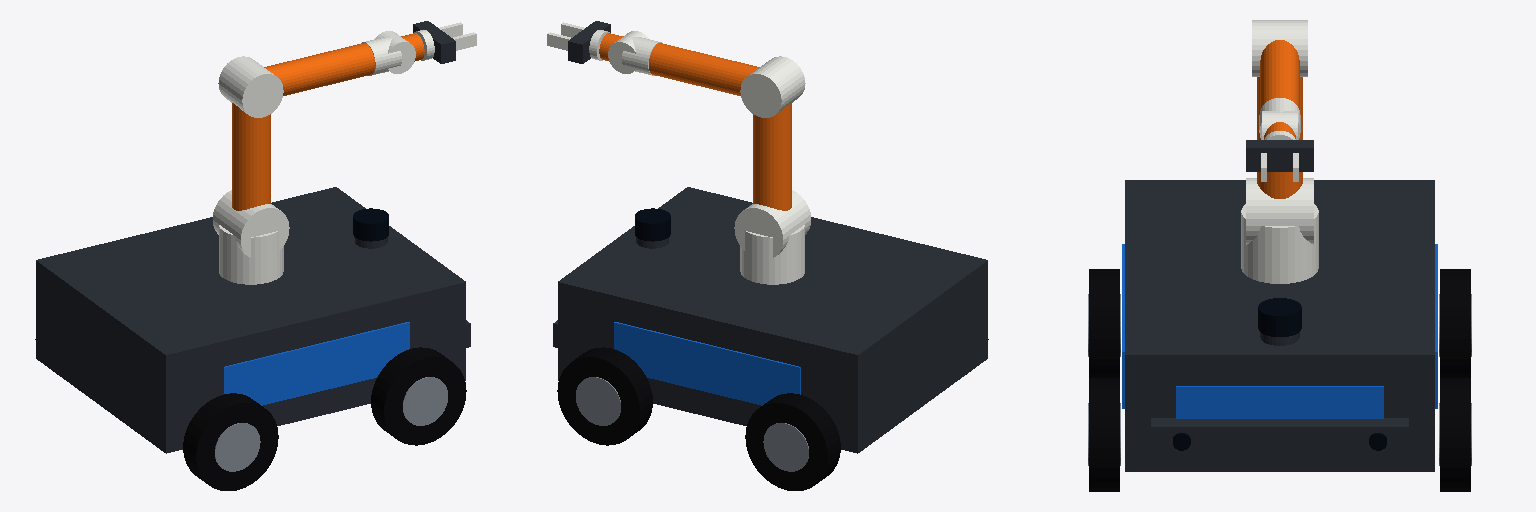
robot.urdf — Mobile_manipulator:
<?xml version="1.0"?>
<robot name="Mobile_manipulator">
  <robotlens_sim base="floating">
    <actuator joint="left_front_wheel_joint" type="velocity" gain="15" effort="30"/>
    <actuator joint="right_front_wheel_joint" type="velocity" gain="15" effort="30"/>
    <actuator joint="left_rear_wheel_joint" type="velocity" gain="15" effort="30"/>
    <actuator joint="right_rear_wheel_joint" type="velocity" gain="15" effort="30"/>
    <actuator joint="arm_base_joint" type="position" gain="450" effort="90" lower="-3.05" upper="3.05"/>
    <actuator joint="upper_arm_joint" type="position" gain="600" effort="120" lower="-1.9" upper="1.9"/>
    <actuator joint="forearm_joint" type="position" gain="350" effort="70" lower="-2.5" upper="2.5"/>
    <actuator joint="wrist_roll_joint" type="position" gain="125" effort="25" lower="-3.1" upper="3.1"/>
    <actuator joint="wrist_pitch_joint" type="position" gain="100" effort="20" lower="-2" upper="2"/>
    <actuator joint="tool_flange_joint" type="position" gain="60" effort="12" lower="-3.1" upper="3.1"/>
    <actuator joint="left_finger_joint" type="position" gain="125" effort="25" lower="0" upper="0.035"/>
    <actuator joint="right_finger_joint" type="position" gain="125" effort="25" lower="0" upper="0.035"/>
  </robotlens_sim>
  <link name="base_footprint"><inertial><origin xyz="0 0 0" rpy="0 0 0"/><mass value="0.001"/><inertia ixx="1e-06" ixy="0" ixz="0" iyy="1e-06" iyz="0" izz="1e-06"/></inertial></link>
  <joint name="base_footprint_joint" type="fixed"><parent link="base_footprint"/><child link="base_link"/><origin xyz="0 0 0.225" rpy="0 0 0"/></joint>
  <link name="base_link">
    <inertial><origin xyz="0 0 0" rpy="0 0 0"/><mass value="79.08732"/><inertia ixx="2.8214223445199997" ixy="0" ixz="0" iyy="4.633590108680001" iyz="0" izz="6.6399028852000015"/></inertial>
    <visual><origin xyz="0 0 0" rpy="0 0 0"/><geometry><box size="0.8 0.6 0.25"/></geometry><material name="material_1"><color rgba="0.2 0.22 0.25 1"/></material></visual>
    <visual><origin xyz="0 0.3 0" rpy="0 0 0"/><geometry><box size="0.496 0.01 0.12"/></geometry><material name="material_2"><color rgba="0.12 0.45 0.85 1"/></material></visual>
    <visual><origin xyz="0 -0.3 0" rpy="0 0 0"/><geometry><box size="0.496 0.01 0.12"/></geometry><material name="material_3"><color rgba="0.12 0.45 0.85 1"/></material></visual>
    <visual><origin xyz="0.4 0 0" rpy="0 0 0"/><geometry><box size="0.01 0.402 0.12"/></geometry><material name="material_4"><color rgba="0.12 0.45 0.85 1"/></material></visual>
    <collision><origin xyz="0 0 0" rpy="0 0 0"/><geometry><box size="0.7200000000000001 0.54 0.225"/></geometry></collision>
    <collision><origin xyz="0 0.3 0" rpy="0 0 0"/><geometry><box size="0.4464 0.009000000000000001 0.108"/></geometry></collision>
    <collision><origin xyz="0 -0.3 0" rpy="0 0 0"/><geometry><box size="0.4464 0.009000000000000001 0.108"/></geometry></collision>
    <collision><origin xyz="0.4 0 0" rpy="0 0 0"/><geometry><box size="0.009000000000000001 0.3618 0.108"/></geometry></collision>
  </link>
  <link name="left_front_wheel">
    <inertial><origin xyz="0 0 0" rpy="0 0 0"/><mass value="1.9668560644029456"/><inertia ixx="0.0055420506463979185" ixy="0" ixz="0" iyy="0.009855631299195266" iyz="0" izz="0.0055420506463979185"/></inertial>
    <visual><origin xyz="0 0 0" rpy="-1.5707963267948963 0 0"/><geometry><cylinder radius="0.11" length="0.06"/></geometry><material name="material_5"><color rgba="0.07 0.07 0.08 1"/></material></visual>
    <visual><origin xyz="0 0 0" rpy="-1.5707963267948963 0 0"/><geometry><cylinder radius="0.060500000000000005" length="0.0648"/></geometry><material name="material_6"><color rgba="0.55 0.58 0.62 1"/></material></visual>
    <collision><origin xyz="0 0 0" rpy="-1.5707963267948963 0 0"/><geometry><cylinder radius="0.11" length="0.06"/></geometry></collision>
    <collision><origin xyz="0 0 0" rpy="-1.5707963267948963 0 0"/><geometry><cylinder radius="0.054450000000000005" length="0.05508"/></geometry></collision>
  </link>
  <link name="right_front_wheel">
    <inertial><origin xyz="0 0 0" rpy="0 0 0"/><mass value="1.9668560644029456"/><inertia ixx="0.0055420506463979185" ixy="0" ixz="0" iyy="0.009855631299195266" iyz="0" izz="0.0055420506463979185"/></inertial>
    <visual><origin xyz="0 0 0" rpy="-1.5707963267948963 0 0"/><geometry><cylinder radius="0.11" length="0.06"/></geometry><material name="material_7"><color rgba="0.07 0.07 0.08 1"/></material></visual>
    <visual><origin xyz="0 0 0" rpy="-1.5707963267948963 0 0"/><geometry><cylinder radius="0.060500000000000005" length="0.0648"/></geometry><material name="material_8"><color rgba="0.55 0.58 0.62 1"/></material></visual>
    <collision><origin xyz="0 0 0" rpy="-1.5707963267948963 0 0"/><geometry><cylinder radius="0.11" length="0.06"/></geometry></collision>
    <collision><origin xyz="0 0 0" rpy="-1.5707963267948963 0 0"/><geometry><cylinder radius="0.054450000000000005" length="0.05508"/></geometry></collision>
  </link>
  <link name="left_rear_wheel">
    <inertial><origin xyz="0 0 0" rpy="0 0 0"/><mass value="1.9668560644029456"/><inertia ixx="0.0055420506463979185" ixy="0" ixz="0" iyy="0.009855631299195266" iyz="0" izz="0.0055420506463979185"/></inertial>
    <visual><origin xyz="0 0 0" rpy="-1.5707963267948963 0 0"/><geometry><cylinder radius="0.11" length="0.06"/></geometry><material name="material_9"><color rgba="0.07 0.07 0.08 1"/></material></visual>
    <visual><origin xyz="0 0 0" rpy="-1.5707963267948963 0 0"/><geometry><cylinder radius="0.060500000000000005" length="0.0648"/></geometry><material name="material_10"><color rgba="0.55 0.58 0.62 1"/></material></visual>
    <collision><origin xyz="0 0 0" rpy="-1.5707963267948963 0 0"/><geometry><cylinder radius="0.11" length="0.06"/></geometry></collision>
    <collision><origin xyz="0 0 0" rpy="-1.5707963267948963 0 0"/><geometry><cylinder radius="0.054450000000000005" length="0.05508"/></geometry></collision>
  </link>
  <link name="right_rear_wheel">
    <inertial><origin xyz="0 0 0" rpy="0 0 0"/><mass value="1.9668560644029456"/><inertia ixx="0.0055420506463979185" ixy="0" ixz="0" iyy="0.009855631299195266" iyz="0" izz="0.0055420506463979185"/></inertial>
    <visual><origin xyz="0 0 0" rpy="-1.5707963267948963 0 0"/><geometry><cylinder radius="0.11" length="0.06"/></geometry><material name="material_11"><color rgba="0.07 0.07 0.08 1"/></material></visual>
    <visual><origin xyz="0 0 0" rpy="-1.5707963267948963 0 0"/><geometry><cylinder radius="0.060500000000000005" length="0.0648"/></geometry><material name="material_12"><color rgba="0.55 0.58 0.62 1"/></material></visual>
    <collision><origin xyz="0 0 0" rpy="-1.5707963267948963 0 0"/><geometry><cylinder radius="0.11" length="0.06"/></geometry></collision>
    <collision><origin xyz="0 0 0" rpy="-1.5707963267948963 0 0"/><geometry><cylinder radius="0.054450000000000005" length="0.05508"/></geometry></collision>
  </link>
  <link name="lidar_link">
    <inertial><origin xyz="0 0 0" rpy="0 0 0"/><mass value="0.22107073344046016"/><inertia ixx="0.00042077856562707633" ixy="0" ixz="0" iyy="0.00042077856562707633" iyz="0" izz="0.00018554855052757584"/></inertial>
    <visual><origin xyz="0 0 0.01" rpy="0 0 0"/><geometry><cylinder radius="0.038" length="0.02"/></geometry><material name="material_13"><color rgba="0.2 0.22 0.25 1"/></material></visual>
    <visual><origin xyz="0 0 0.0425" rpy="0 0 0"/><geometry><cylinder radius="0.042" length="0.045"/></geometry><material name="material_14"><color rgba="0.05 0.08 0.12 1"/></material></visual>
    <collision><origin xyz="0 0 0.01" rpy="0 0 0"/><geometry><cylinder radius="0.0342" length="0.017"/></geometry></collision>
    <collision><origin xyz="0 0 0.0425" rpy="0 0 0"/><geometry><cylinder radius="0.0378" length="0.03825"/></geometry></collision>
  </link>
  <link name="imu_link">
    <inertial><origin xyz="0 0 0" rpy="0 0 0"/><mass value="0.02"/><inertia ixx="1e-06" ixy="0" ixz="0" iyy="1e-06" iyz="0" izz="1.0530000000000001e-06"/></inertial>
    <visual><origin xyz="0 0 0" rpy="0 0 0"/><geometry><box size="0.03 0.03 0.012"/></geometry><material name="material_15"><color rgba="0.1 0.4 0.2 1"/></material></visual>
    <collision><origin xyz="0 0 0" rpy="0 0 0"/><geometry><box size="0.027 0.027 0.0108"/></geometry></collision>
  </link>
  <link name="arm_base">
    <inertial><origin xyz="0 0 0" rpy="0 0 0"/><mass value="1.3783737767625217"/><inertia ixx="0.008554532252032399" ixy="0" ixz="0" iyy="0.008554532252032399" iyz="0" izz="0.003876676247144592"/></inertial>
    <visual><origin xyz="0 0 0.06" rpy="0 0 0"/><geometry><cylinder radius="0.075" length="0.12"/></geometry><material name="material_16"><color rgba="0.92 0.92 0.9 1"/></material></visual>
    <collision><origin xyz="0 0 0.06" rpy="0 0 0"/><geometry><cylinder radius="0.0675" length="0.102"/></geometry></collision>
  </link>
  <link name="upper_arm">
    <inertial><origin xyz="0 0 0" rpy="0 0 0"/><mass value="2.5574980816693182"/><inertia ixx="0.0612055655404595" ixy="0" ixz="0" iyy="0.060810673152577176" iyz="0" izz="0.004218105827536204"/></inertial>
    <visual><origin xyz="0 0 0" rpy="-1.5707963267948963 0 0"/><geometry><cylinder radius="0.065" length="0.13"/></geometry><material name="material_17"><color rgba="0.92 0.92 0.9 1"/></material></visual>
    <visual><origin xyz="0 0 0.173623712551348" rpy="0 0 0"/><geometry><cylinder radius="0.045" length="0.347247425102696"/></geometry><material name="material_18"><color rgba="0.95 0.45 0.1 1"/></material></visual>
    <collision><origin xyz="0 0 0" rpy="-1.5707963267948963 0 0"/><geometry><cylinder radius="0.0585" length="0.1105"/></geometry></collision>
    <collision><origin xyz="0 0 0.173623712551348" rpy="0 0 0"/><geometry><cylinder radius="0.0405" length="0.2951603113372916"/></geometry></collision>
  </link>
  <link name="forearm">
    <inertial><origin xyz="0 0 0" rpy="0 0 0"/><mass value="1.5896455216466028"/><inertia ixx="0.0018561461185224283" ixy="0" ixz="0" iyy="0.030261007305839454" iyz="0" izz="0.030432294709482496"/></inertial>
    <visual><origin xyz="0 0 0" rpy="-1.5707963267948963 0 0"/><geometry><cylinder radius="0.055" length="0.11"/></geometry><material name="material_19"><color rgba="0.92 0.92 0.9 1"/></material></visual>
    <visual><origin xyz="0.15433218893453157 0 0" rpy="0 1.5707963267948966 0"/><geometry><cylinder radius="0.038" length="0.30866437786906314"/></geometry><material name="material_20"><color rgba="0.95 0.45 0.1 1"/></material></visual>
    <collision><origin xyz="0 0 0" rpy="-1.5707963267948963 0 0"/><geometry><cylinder radius="0.0495" length="0.0935"/></geometry></collision>
    <collision><origin xyz="0.15433218893453157 0 0" rpy="0 1.5707963267948966 0"/><geometry><cylinder radius="0.0342" length="0.2623647211887037"/></geometry></collision>
  </link>
  <link name="wrist_roll">
    <inertial><origin xyz="0 0 0" rpy="0 0 0"/><mass value="0.22870794518133697"/><inertia ixx="0.00018296635614506958" ixy="0" ixz="0" iyy="0.0004650394885353852" iyz="0" izz="0.0004650394885353852"/></inertial>
    <visual><origin xyz="0.035 0 0" rpy="0 1.5707963267948966 0"/><geometry><cylinder radius="0.04" length="0.07"/></geometry><material name="material_21"><color rgba="0.92 0.92 0.9 1"/></material></visual>
    <collision><origin xyz="0.035 0 0" rpy="0 1.5707963267948966 0"/><geometry><cylinder radius="0.036000000000000004" length="0.059500000000000004"/></geometry></collision>
  </link>
  <link name="wrist_pitch">
    <inertial><origin xyz="0 0 0" rpy="0 0 0"/><mass value="0.3332601486928053"/><inertia ixx="0.0002384029838861192" ixy="0" ixz="0" iyy="0.0003987969549272441" iyz="0" izz="0.0004007028544704219"/></inertial>
    <visual><origin xyz="0 0 0" rpy="-1.5707963267948963 0 0"/><geometry><cylinder radius="0.04" length="0.07"/></geometry><material name="material_22"><color rgba="0.92 0.92 0.9 1"/></material></visual>
    <visual><origin xyz="0.04 0 0" rpy="0 1.5707963267948966 0"/><geometry><cylinder radius="0.032" length="0.05"/></geometry><material name="material_23"><color rgba="0.95 0.45 0.1 1"/></material></visual>
    <collision><origin xyz="0 0 0" rpy="-1.5707963267948963 0 0"/><geometry><cylinder radius="0.036000000000000004" length="0.059500000000000004"/></geometry></collision>
    <collision><origin xyz="0.04 0 0" rpy="0 1.5707963267948966 0"/><geometry><cylinder radius="0.028800000000000003" length="0.0425"/></geometry></collision>
  </link>
  <link name="tool_flange">
    <inertial><origin xyz="0 0 0" rpy="0 0 0"/><mass value="0.05002986300841746"/><inertia ixx="3.06432910926557e-05" ixy="0" ixz="0" iyy="2.1992293947450177e-05" iyz="0" izz="2.1992293947450177e-05"/></inertial>
    <visual><origin xyz="0.01 0 0" rpy="0 1.5707963267948966 0"/><geometry><cylinder radius="0.035" length="0.02"/></geometry><material name="material_24"><color rgba="0.92 0.92 0.9 1"/></material></visual>
    <collision><origin xyz="0.01 0 0" rpy="0 1.5707963267948966 0"/><geometry><cylinder radius="0.03150000000000001" length="0.017"/></geometry></collision>
  </link>
  <link name="gripper_palm">
    <inertial><origin xyz="0 0 0" rpy="0 0 0"/><mass value="0.169"/><inertia ixx="0.0002732166666666667" ixy="0" ixz="0" iyy="0.00012534166666666667" iyz="0" izz="0.00032814166666666675"/></inertial>
    <visual><origin xyz="0.02 0 0" rpy="0 0 0"/><geometry><box size="0.04 0.13 0.05"/></geometry><material name="material_25"><color rgba="0.2 0.22 0.25 1"/></material></visual>
    <collision><origin xyz="0.02 0 0" rpy="0 0 0"/><geometry><box size="0.036000000000000004 0.117 0.045000000000000005"/></geometry></collision>
  </link>
  <link name="left_finger">
    <inertial><origin xyz="0 0 0" rpy="0 0 0"/><mass value="0.02"/><inertia ixx="2.0147400000000002e-06" ixy="0" ixz="0" iyy="2.7982500000000005e-05" iyz="0" izz="2.754024000000001e-05"/></inertial>
    <visual><origin xyz="0.035 0.006 0" rpy="0 0 0"/><geometry><box size="0.07 0.012 0.03"/></geometry><material name="material_26"><color rgba="0.92 0.92 0.9 1"/></material></visual>
    <collision><origin xyz="0.035 0.006 0" rpy="0 0 0"/><geometry><box size="0.06300000000000001 0.0108 0.027"/></geometry></collision>
  </link>
  <link name="right_finger">
    <inertial><origin xyz="0 0 0" rpy="0 0 0"/><mass value="0.02"/><inertia ixx="2.0147400000000002e-06" ixy="0" ixz="0" iyy="2.7982500000000005e-05" iyz="0" izz="2.754024000000001e-05"/></inertial>
    <visual><origin xyz="0.035 -0.006 0" rpy="0 0 0"/><geometry><box size="0.07 0.012 0.03"/></geometry><material name="material_27"><color rgba="0.92 0.92 0.9 1"/></material></visual>
    <collision><origin xyz="0.035 -0.006 0" rpy="0 0 0"/><geometry><box size="0.06300000000000001 0.0108 0.027"/></geometry></collision>
  </link>
  <link name="camera_link">
    <inertial><origin xyz="0 0 0" rpy="0 0 0"/><mass value="0.2"/><inertia ixx="0.0042" ixy="0" ixz="0" iyy="0.00009" iyz="0" izz="0.0042"/></inertial>
    <visual><origin xyz="0 0 0" rpy="0 0 0"/><geometry><box size="0.04 0.5 0.06"/></geometry><material name="material_29"><color rgba="0.2 0.22 0.25 1"/></material></visual>
    <visual><origin xyz="0.022 0.19 0" rpy="0 1.5707963267948966 0"/><geometry><cylinder radius="0.018" length="0.008"/></geometry><material name="material_30"><color rgba="0.05 0.08 0.12 1"/></material></visual>
    <visual><origin xyz="0.022 -0.19 0" rpy="0 1.5707963267948966 0"/><geometry><cylinder radius="0.018" length="0.008"/></geometry><material name="material_31"><color rgba="0.05 0.08 0.12 1"/></material></visual>
    <collision><origin xyz="0 0 0" rpy="0 0 0"/><geometry><box size="0.036 0.45 0.054"/></geometry></collision>
    <collision><origin xyz="0.022 0.19 0" rpy="0 1.5707963267948966 0"/><geometry><cylinder radius="0.016" length="0.007"/></geometry></collision>
    <collision><origin xyz="0.022 -0.19 0" rpy="0 1.5707963267948966 0"/><geometry><cylinder radius="0.016" length="0.007"/></geometry></collision>
  </link>
  <joint name="left_front_wheel_joint" type="continuous"><parent link="base_link"/><child link="left_front_wheel"/><origin xyz="0.25000000000000006 0.33999999999999997 -0.115" rpy="0 0 0"/><axis xyz="0 1 0"/><limit effort="30" velocity="3"/><dynamics damping="1.5"/></joint>
  <joint name="right_front_wheel_joint" type="continuous"><parent link="base_link"/><child link="right_front_wheel"/><origin xyz="0.25000000000000006 -0.33999999999999997 -0.115" rpy="0 0 0"/><axis xyz="0 1 0"/><limit effort="30" velocity="3"/><dynamics damping="1.5"/></joint>
  <joint name="left_rear_wheel_joint" type="continuous"><parent link="base_link"/><child link="left_rear_wheel"/><origin xyz="-0.25000000000000006 0.33999999999999997 -0.115" rpy="0 0 0"/><axis xyz="0 1 0"/><limit effort="30" velocity="3"/><dynamics damping="1.5"/></joint>
  <joint name="right_rear_wheel_joint" type="continuous"><parent link="base_link"/><child link="right_rear_wheel"/><origin xyz="-0.25000000000000006 -0.33999999999999997 -0.115" rpy="0 0 0"/><axis xyz="0 1 0"/><limit effort="30" velocity="3"/><dynamics damping="1.5"/></joint>
  <joint name="lidar_link_joint" type="fixed"><parent link="base_link"/><child link="lidar_link"/><origin xyz="0.32 0 0.125" rpy="0 0 0"/></joint>
  <joint name="imu_link_joint" type="fixed"><parent link="base_link"/><child link="imu_link"/><origin xyz="0 0 0" rpy="0 0 0"/></joint>
  <joint name="arm_base_joint" type="revolute"><parent link="base_link"/><child link="arm_base"/><origin xyz="0 0 0.125" rpy="0 0 0"/><axis xyz="0 0 1"/><limit lower="-3.05" upper="3.05" effort="90" velocity="3"/><dynamics damping="4.5"/></joint>
  <joint name="upper_arm_joint" type="revolute"><parent link="arm_base"/><child link="upper_arm"/><origin xyz="0 0 0.12" rpy="0 0 0"/><axis xyz="0 1 0"/><limit lower="-1.9" upper="1.9" effort="120" velocity="3"/><dynamics damping="6"/></joint>
  <joint name="forearm_joint" type="revolute"><parent link="upper_arm"/><child link="forearm"/><origin xyz="0 0 0.347247425102696" rpy="0 0 0"/><axis xyz="0 1 0"/><limit lower="-2.5" upper="2.5" effort="70" velocity="3"/><dynamics damping="3.5"/></joint>
  <joint name="wrist_roll_joint" type="revolute"><parent link="forearm"/><child link="wrist_roll"/><origin xyz="0.30866437786906314 0 0" rpy="0 0 0"/><axis xyz="1 0 0"/><limit lower="-3.1" upper="3.1" effort="25" velocity="3"/><dynamics damping="1.25"/></joint>
  <joint name="wrist_pitch_joint" type="revolute"><parent link="wrist_roll"/><child link="wrist_pitch"/><origin xyz="0.07 0 0" rpy="0 0 0"/><axis xyz="0 1 0"/><limit lower="-2" upper="2" effort="20" velocity="3"/><dynamics damping="1"/></joint>
  <joint name="tool_flange_joint" type="revolute"><parent link="wrist_pitch"/><child link="tool_flange"/><origin xyz="0.07 0 0" rpy="0 0 0"/><axis xyz="1 0 0"/><limit lower="-3.1" upper="3.1" effort="12" velocity="3"/><dynamics damping="0.6000000000000001"/></joint>
  <joint name="gripper_palm_joint" type="fixed"><parent link="tool_flange"/><child link="gripper_palm"/><origin xyz="0.02 0 0" rpy="0 0 0"/></joint>
  <joint name="left_finger_joint" type="prismatic"><parent link="gripper_palm"/><child link="left_finger"/><origin xyz="0.04 0.025 0" rpy="0 0 0"/><axis xyz="0 1 0"/><limit lower="0" upper="0.035" effort="25" velocity="0.5"/><dynamics damping="1.25"/></joint>
  <joint name="right_finger_joint" type="prismatic"><parent link="gripper_palm"/><child link="right_finger"/><origin xyz="0.04 -0.025 0" rpy="0 0 0"/><axis xyz="0 -1 0"/><limit lower="0" upper="0.035" effort="25" velocity="0.5"/><dynamics damping="1.25"/></joint>
  <joint name="camera_link_joint" type="fixed"><parent link="base_link"/><child link="camera_link"/><origin xyz="0.42 0 -0.04" rpy="0 0 0"/></joint>
  <gazebo>
    <plugin filename="gz-sim-joint-position-controller-system" name="gz::sim::systems::JointPositionController"><joint_name>arm_base_joint</joint_name><topic>Mobile_manipulator/arm_base_joint/cmd_pos</topic><p_gain>450</p_gain><cmd_max>90</cmd_max><cmd_min>-90</cmd_min></plugin>
    <plugin filename="gz-sim-joint-position-controller-system" name="gz::sim::systems::JointPositionController"><joint_name>upper_arm_joint</joint_name><topic>Mobile_manipulator/upper_arm_joint/cmd_pos</topic><p_gain>600</p_gain><cmd_max>120</cmd_max><cmd_min>-120</cmd_min></plugin>
    <plugin filename="gz-sim-joint-position-controller-system" name="gz::sim::systems::JointPositionController"><joint_name>forearm_joint</joint_name><topic>Mobile_manipulator/forearm_joint/cmd_pos</topic><p_gain>350</p_gain><cmd_max>70</cmd_max><cmd_min>-70</cmd_min></plugin>
    <plugin filename="gz-sim-joint-position-controller-system" name="gz::sim::systems::JointPositionController"><joint_name>wrist_roll_joint</joint_name><topic>Mobile_manipulator/wrist_roll_joint/cmd_pos</topic><p_gain>125</p_gain><cmd_max>25</cmd_max><cmd_min>-25</cmd_min></plugin>
    <plugin filename="gz-sim-joint-position-controller-system" name="gz::sim::systems::JointPositionController"><joint_name>wrist_pitch_joint</joint_name><topic>Mobile_manipulator/wrist_pitch_joint/cmd_pos</topic><p_gain>100</p_gain><cmd_max>20</cmd_max><cmd_min>-20</cmd_min></plugin>
    <plugin filename="gz-sim-joint-position-controller-system" name="gz::sim::systems::JointPositionController"><joint_name>tool_flange_joint</joint_name><topic>Mobile_manipulator/tool_flange_joint/cmd_pos</topic><p_gain>60</p_gain><cmd_max>12</cmd_max><cmd_min>-12</cmd_min></plugin>
    <plugin filename="gz-sim-joint-position-controller-system" name="gz::sim::systems::JointPositionController"><joint_name>left_finger_joint</joint_name><topic>Mobile_manipulator/left_finger_joint/cmd_pos</topic><p_gain>125</p_gain><cmd_max>25</cmd_max><cmd_min>-25</cmd_min></plugin>
    <plugin filename="gz-sim-joint-position-controller-system" name="gz::sim::systems::JointPositionController"><joint_name>right_finger_joint</joint_name><topic>Mobile_manipulator/right_finger_joint/cmd_pos</topic><p_gain>125</p_gain><cmd_max>25</cmd_max><cmd_min>-25</cmd_min></plugin>
  </gazebo>
  <gazebo reference="lidar_link">
      <sensor name="lidar" type="gpu_lidar">
        <always_on>1</always_on>
        <update_rate>10</update_rate>
        <topic>Mobile_manipulator/lidar_link</topic>
        <lidar>
          <scan><horizontal><samples>360</samples><resolution>1</resolution><min_angle>-3.14159</min_angle><max_angle>3.14159</max_angle></horizontal></scan>
          <range><min>0.1</min><max>12</max><resolution>0.01</resolution></range>
        </lidar>
      </sensor>
  </gazebo>
  <gazebo reference="imu_link">
      <sensor name="imu" type="imu">
        <always_on>1</always_on>
        <update_rate>100</update_rate>
        <topic>Mobile_manipulator/imu_link</topic>
      </sensor>
  </gazebo>
</robot>

--- What the picture shows (computed from the rendered views, not written in the file) ---
Views: 3 orthographic renders of the robot side by side, from view 1: azimuth 30°, elevation 25°; view 2: azimuth 150°, elevation 25°; view 3: azimuth 270°, elevation 25°.
Robot: Mobile_manipulator — 18 links, 17 joints (6 revolute, 4 continuous, 2 prismatic, 5 fixed); root link base_footprint; default pose: all joints at 0.
Links seen in each view (by area): view 1: base_link, right_rear_wheel, right_front_wheel, upper_arm, forearm, arm_base, lidar_link, wrist_pitch, gripper_palm, wrist_roll; view 2: base_link, left_rear_wheel, left_front_wheel, upper_arm, forearm, arm_base, lidar_link, wrist_pitch, gripper_palm, wrist_roll; view 3: base_link, camera_link, forearm, upper_arm, arm_base, left_front_wheel, right_front_wheel, left_rear_wheel, right_rear_wheel, gripper_palm, lidar_link, wrist_pitch (+1 smaller).
Boxes of the visible links, box(x1,y1,x2,y2) form: base_link: box(36, 187, 465, 453); right_rear_wheel: box(183, 393, 278, 490); right_front_wheel: box(371, 347, 466, 445); upper_arm: box(213, 103, 289, 257); forearm: box(218, 43, 374, 117); arm_base: box(219, 225, 283, 284); lidar_link: box(353, 208, 388, 248); wrist_pitch: box(375, 31, 424, 73); gripper_palm: box(413, 21, 455, 63); wrist_roll: box(362, 37, 401, 75); base_link: box(558, 187, 987, 453); left_rear_wheel: box(745, 393, 840, 490); left_front_wheel: box(557, 347, 652, 445); upper_arm: box(734, 103, 810, 257); forearm: box(649, 43, 805, 117); arm_base: box(740, 225, 804, 284); lidar_link: box(635, 208, 670, 248); wrist_pitch: box(599, 31, 648, 73); gripper_palm: box(568, 21, 610, 63); wrist_roll: box(622, 37, 661, 75); base_link: box(1122, 180, 1437, 471); camera_link: box(1151, 418, 1408, 454); forearm: box(1252, 20, 1307, 109); upper_arm: box(1246, 77, 1313, 244); arm_base: box(1241, 204, 1318, 283); left_front_wheel: box(1439, 378, 1471, 491); right_front_wheel: box(1088, 378, 1120, 491); left_rear_wheel: box(1439, 269, 1471, 377); right_rear_wheel: box(1088, 269, 1120, 377); gripper_palm: box(1246, 140, 1313, 171); lidar_link: box(1258, 298, 1301, 345); wrist_pitch: box(1262, 111, 1297, 139).
Size in the robot's own frame: 0.9787 by 0.7448 by 0.8722 metres.
Geometry: primitives only (box / cylinder / sphere), no mesh files.
